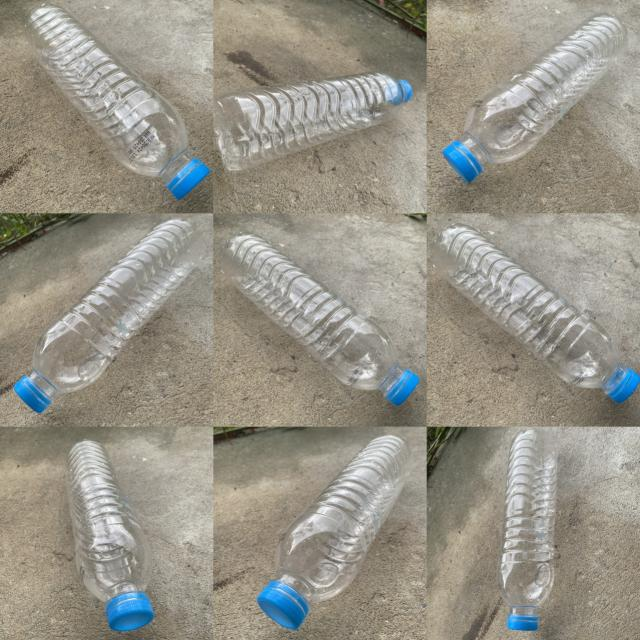plastik: (431, 224, 640, 402), (14, 218, 204, 413), (22, 4, 210, 199), (219, 232, 419, 404), (442, 14, 626, 182), (258, 435, 412, 629), (214, 72, 412, 171), (66, 440, 154, 631), (498, 429, 558, 630)
